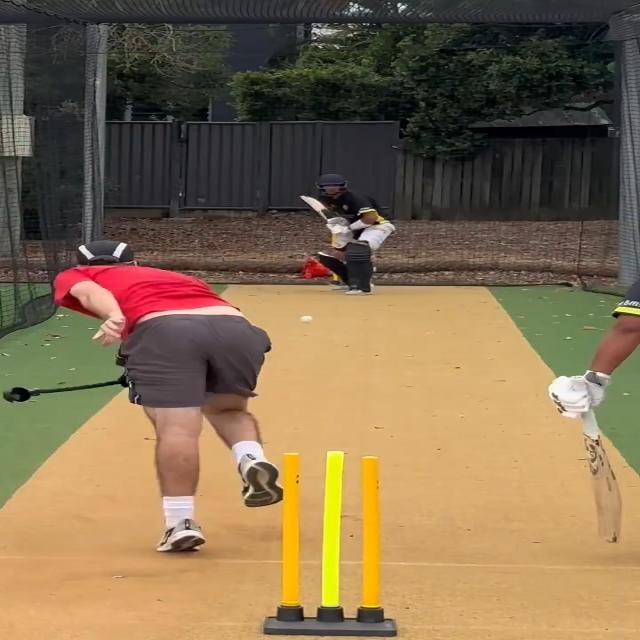ball: (300, 314, 316, 324)
stump: (257, 450, 398, 639)
